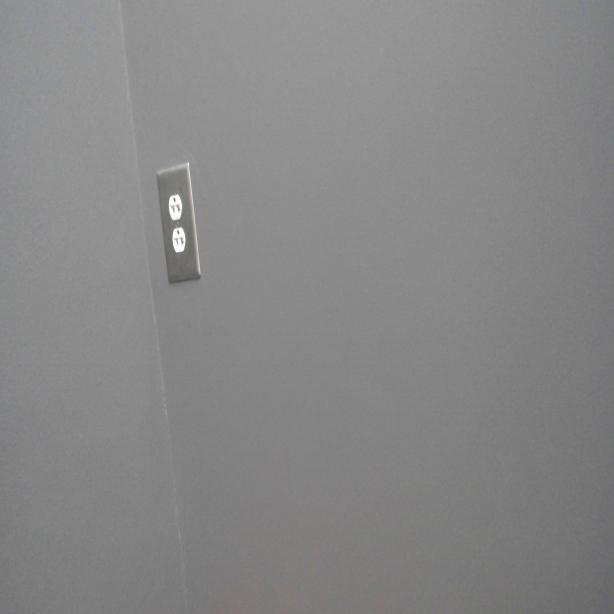typeb: (172, 226, 187, 252), (168, 195, 182, 220)
